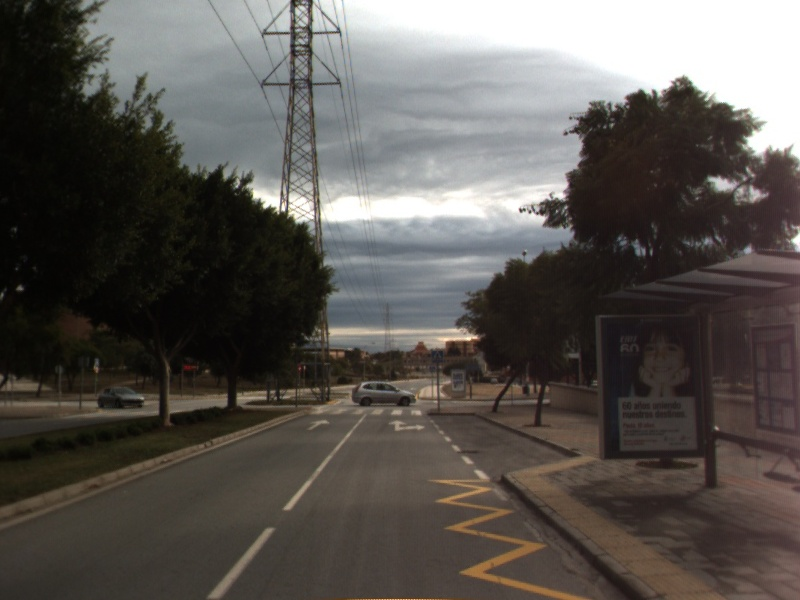STRAIGHT: (304, 417, 332, 432)
STRAIGHT_RIGHT: (386, 417, 427, 433)
